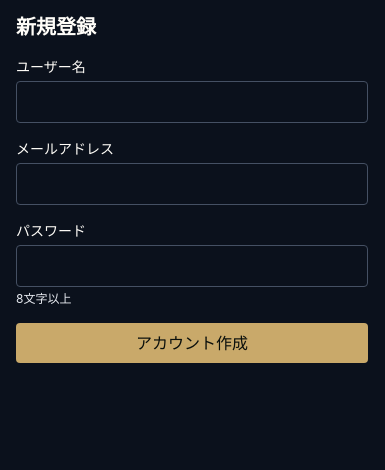
Test: SignupForm › Backend の validation error（400）は内容をそのまま表示する
Type "tester" into the field below "ユーザー名" at (192, 102), box x1=16 y1=81 x2=368 y2=123
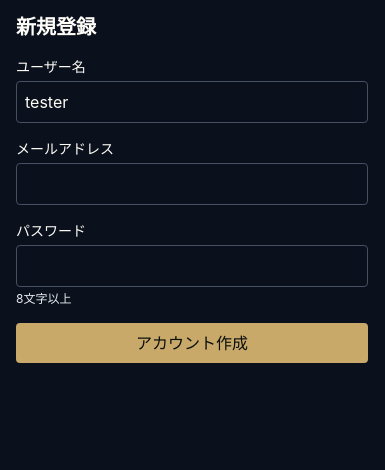
Type "tester@example.com" into the field below "メールアドレス" at (192, 184), box x1=16 y1=163 x2=368 y2=205
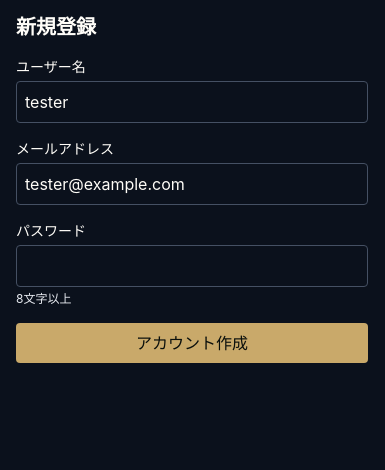
Type "password123" into the password field at (192, 266), box x1=16 y1=245 x2=368 y2=287
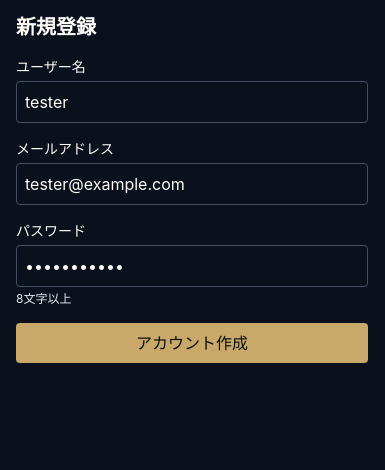
Click the button "アカウント作成" at (192, 343), box x1=16 y1=323 x2=368 y2=363
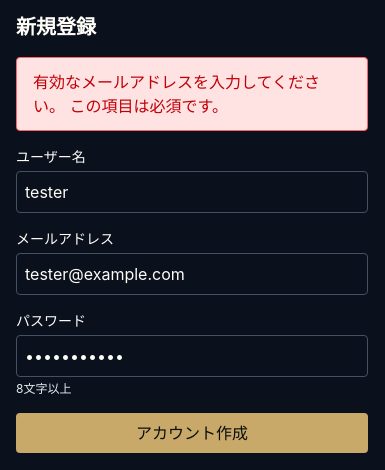
expect the text "有効なメールアドレスを入力してください。 この項目は必須です。" is shown: met, box x1=16 y1=57 x2=368 y2=131
